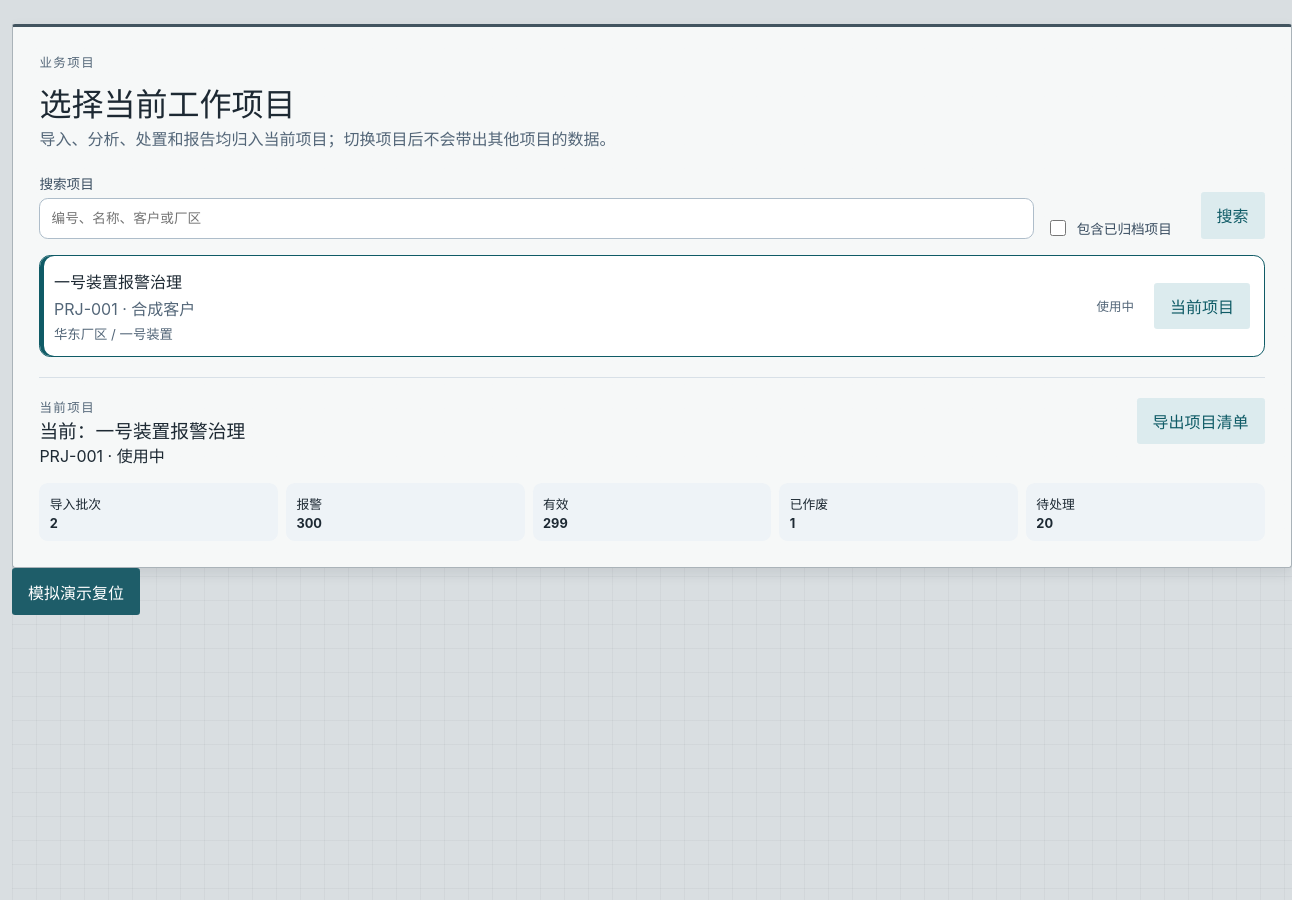
Test: M10 全中文项目化入口 › 演示复位后清除已删除项目并选择默认项目
Click the button "模拟演示复位": (76, 592) [12, 568, 140, 615]
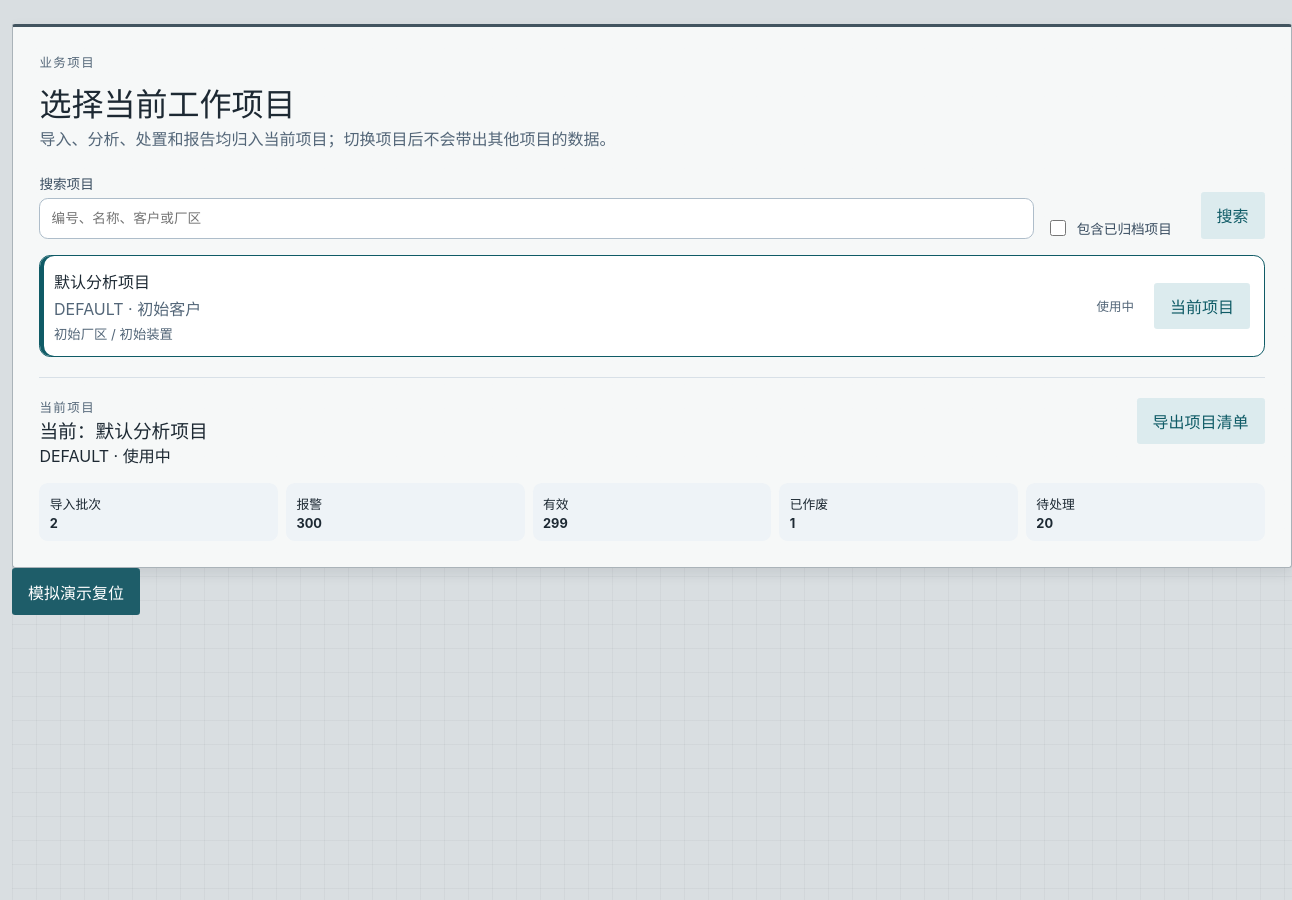
Now the heading "当前：默认分析项目" is shown, box [39, 416, 208, 443]
